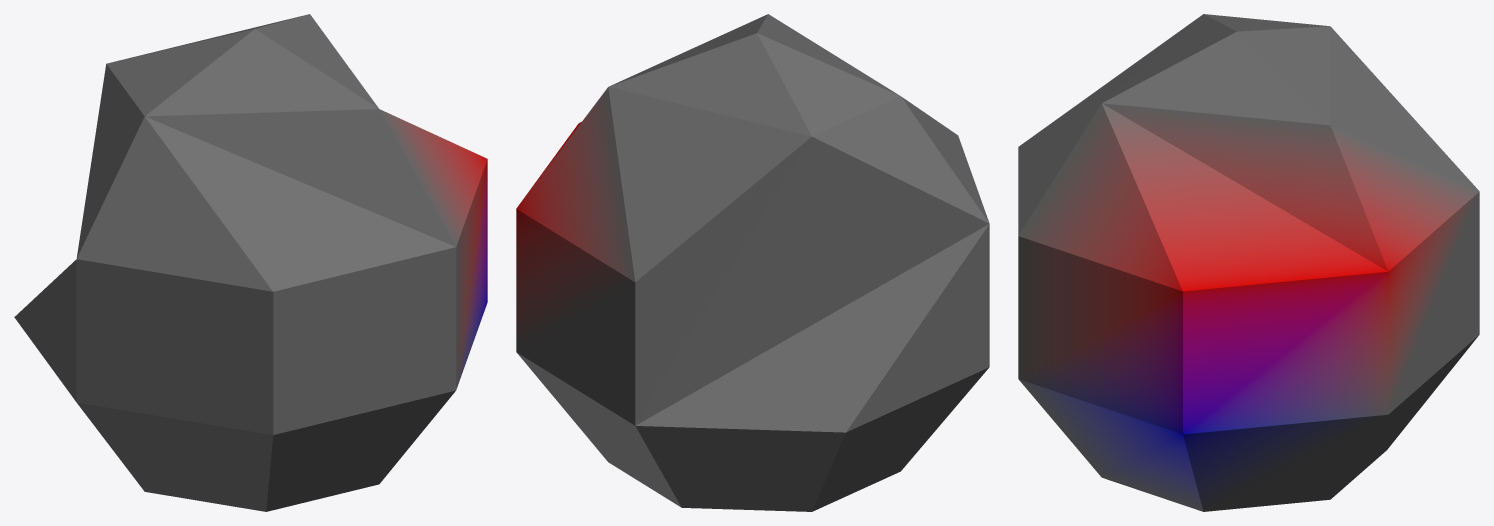
The model's file is before_retriangulation_4.obj.
The picture shows the model from 3 angles, left to right: view 1: azimuth 30°, elevation 25°; view 2: azimuth 150°, elevation 25°; view 3: azimuth 270°, elevation 25°; orthographic projection.
Size of the model in its own units: 1.85 by 2 by 1.81.
